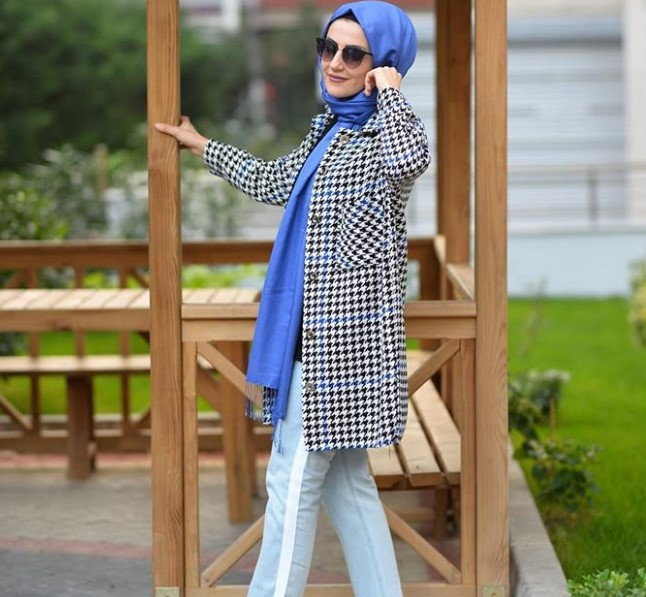face_no_mask: (314, 12, 382, 108)
